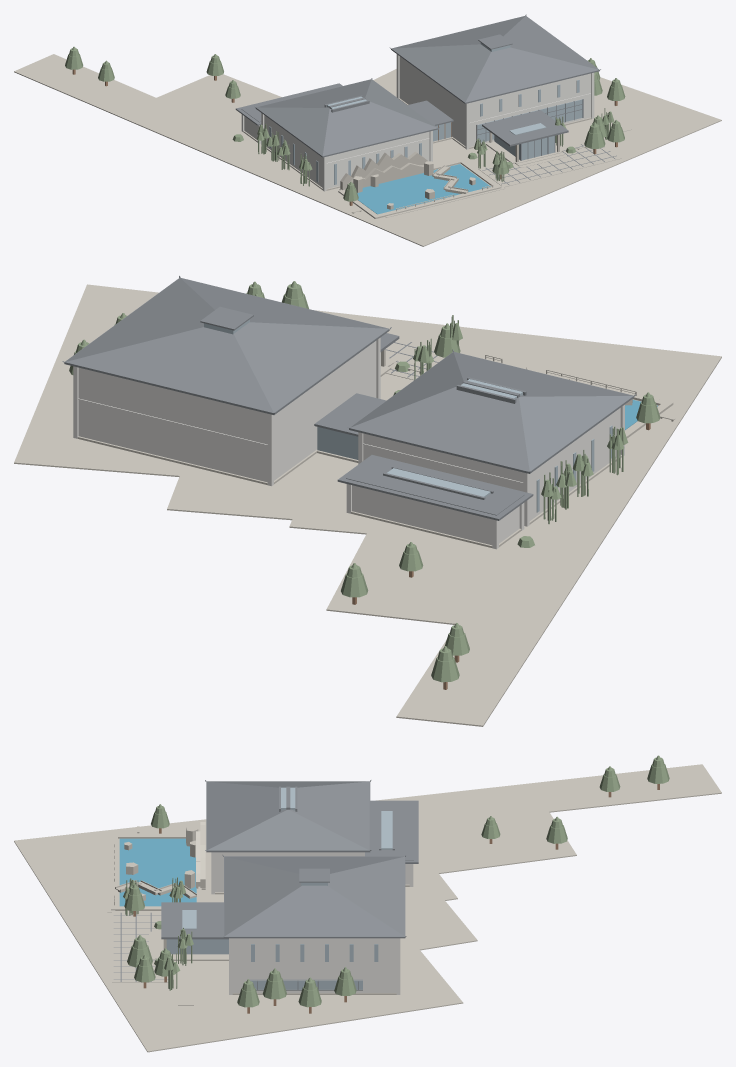
File: suzhou_museum.glb
The picture shows the model from 3 angles, top to bottom: view 1: azimuth 30°, elevation 25°; view 2: azimuth 150°, elevation 25°; view 3: azimuth 270°, elevation 25°; orthographic projection. The views are drawn at different scales.
Visible parts, largest first — view 1: sm_stone, sm_roof_dark, sm_wall_white, sm_leaf, sm_glass_blue, sm_water; view 2: sm_stone, sm_roof_dark, sm_wall_white, sm_leaf, sm_glass_blue; view 3: sm_stone, sm_roof_dark, sm_wall_white, sm_leaf, sm_water, sm_glass_blue.
Boxes of the visible parts, x1=… form: sm_stone: x1=14, y1=54, x2=721, y2=246; sm_roof_dark: x1=235, y1=14, x2=616, y2=184; sm_wall_white: x1=241, y1=54, x2=594, y2=191; sm_leaf: x1=65, y1=46, x2=625, y2=201; sm_glass_blue: x1=269, y1=42, x2=582, y2=184; sm_water: x1=357, y1=164, x2=490, y2=214; sm_stone: x1=14, y1=284, x2=721, y2=726; sm_roof_dark: x1=62, y1=275, x2=636, y2=520; sm_wall_white: x1=73, y1=337, x2=624, y2=549; sm_leaf: x1=69, y1=281, x2=660, y2=682; sm_glass_blue: x1=204, y1=319, x2=612, y2=512; sm_stone: x1=14, y1=764, x2=721, y2=1052; sm_roof_dark: x1=114, y1=780, x2=418, y2=990; sm_wall_white: x1=211, y1=852, x2=413, y2=994; sm_leaf: x1=123, y1=755, x2=669, y2=1007; sm_water: x1=119, y1=838, x2=196, y2=906; sm_glass_blue: x1=166, y1=787, x2=392, y2=989.
Bounding box in the file's own units: 154 × 20.77 × 161.
